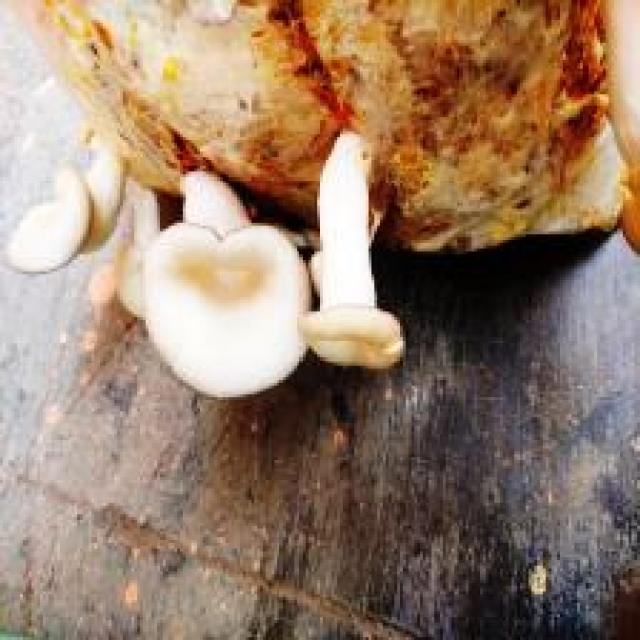death-cap: (3, 0, 640, 257)
field-mushroom: (300, 128, 409, 368)
